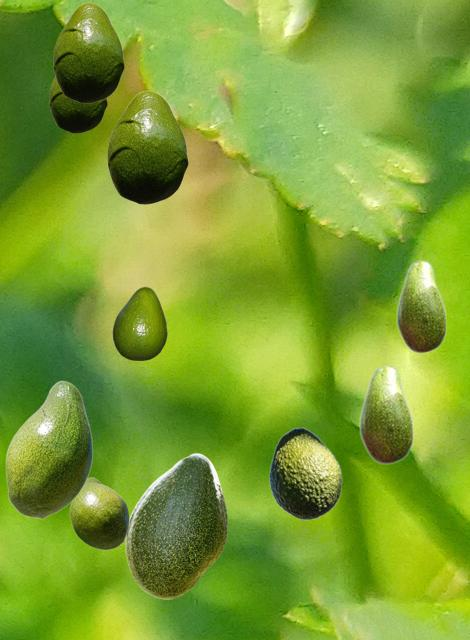avocado: (125, 453, 226, 598), (5, 380, 92, 518), (107, 90, 187, 203), (53, 2, 123, 102), (268, 427, 341, 519), (359, 364, 413, 464), (396, 259, 446, 353), (69, 477, 128, 549), (112, 286, 166, 359), (49, 76, 106, 132)
